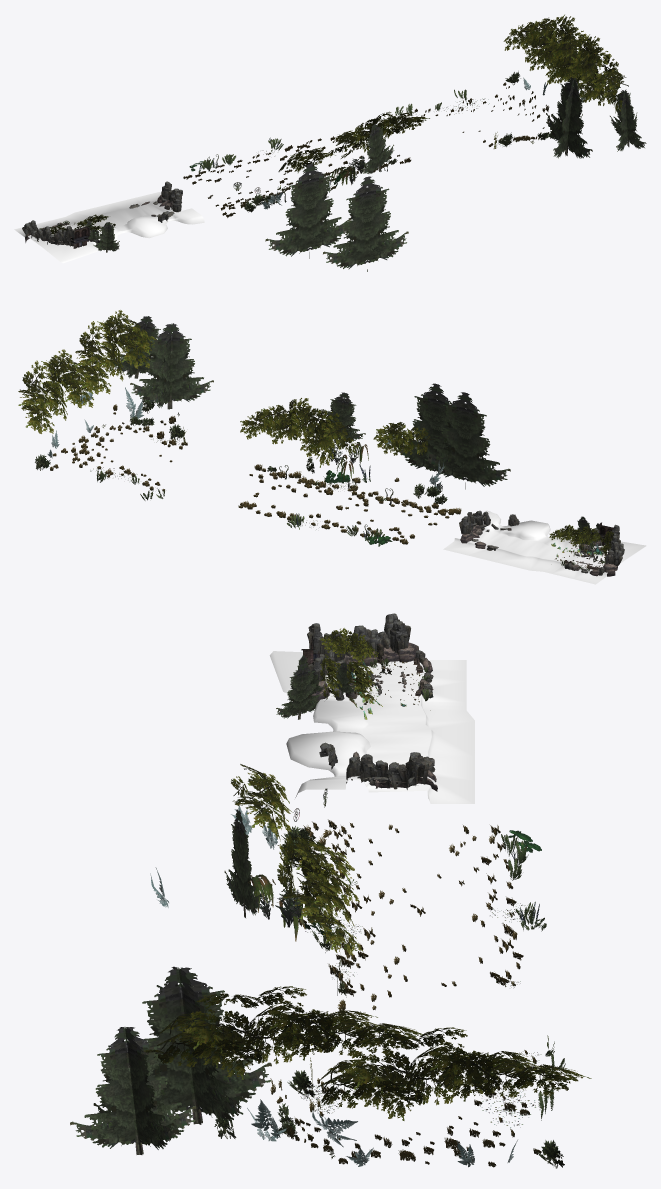
File: stageProb.fbx
The picture shows the model from 3 angles, top to bottom: view 1: azimuth 30°, elevation 25°; view 2: azimuth 150°, elevation 25°; view 3: azimuth 270°, elevation 25°; orthographic projection. The views are drawn at different scales.
Visible parts, largest first — view 1: c01_p01_a01_01, c01_p01_a01_04, c01_p01_a01_02, c01_p01_c01_01, c01_p01_a01_03, c01_p01_d05_03, c01_p01_d05_01; view 2: c01_p01_a01_01, c01_p01_a01_02, c01_p01_a01_04, c01_p01_c01_01, c01_p01_a01_03, c01_p01_d05_03, c01_p01_d05_01, c01_p01_d02_02; view 3: c01_p01_a01_01, c01_p01_c01_01, c01_p01_a01_02, c01_p01_a01_03, c01_p01_d05_03, c01_p01_d05_01.
Part boxes in pixels (bbox=[...]): c01_p01_a01_01: bbox=[395, 14, 646, 158]; c01_p01_a01_04: bbox=[265, 163, 408, 271]; c01_p01_a01_02: bbox=[183, 111, 429, 217]; c01_p01_c01_01: bbox=[14, 192, 204, 263]; c01_p01_a01_03: bbox=[39, 214, 119, 252]; c01_p01_d05_03: bbox=[22, 220, 99, 248]; c01_p01_d05_01: bbox=[129, 181, 182, 222]; c01_p01_a01_01: bbox=[18, 310, 213, 500]; c01_p01_a01_02: bbox=[238, 392, 461, 546]; c01_p01_a01_04: bbox=[398, 383, 510, 489]; c01_p01_c01_01: bbox=[443, 510, 646, 584]; c01_p01_a01_03: bbox=[549, 516, 613, 571]; c01_p01_d05_03: bbox=[564, 524, 624, 576]; c01_p01_d05_01: bbox=[459, 510, 519, 550]; c01_p01_d02_02: bbox=[551, 522, 613, 569]; c01_p01_a01_01: bbox=[70, 966, 591, 1168]; c01_p01_c01_01: bbox=[269, 651, 474, 803]; c01_p01_a01_02: bbox=[150, 764, 546, 1011]; c01_p01_a01_03: bbox=[276, 628, 430, 719]; c01_p01_d05_03: bbox=[307, 613, 433, 704]; c01_p01_d05_01: bbox=[319, 742, 437, 791].
Size of what is drawn, in the model's own units: 295 by 64.33 by 118.
